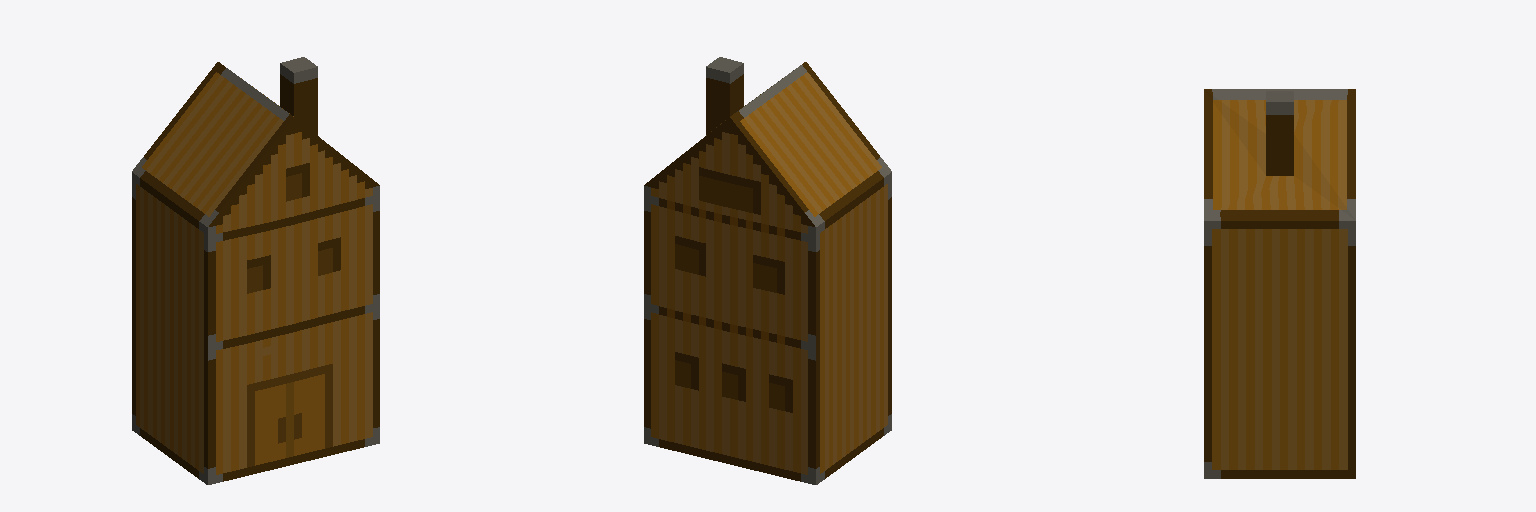
3 views of the same model, side by side, from view 1: azimuth 30°, elevation 25°; view 2: azimuth 150°, elevation 25°; view 3: azimuth 270°, elevation 25° (orthographic).
Parts seen in each view (by area): view 1: residence_Cube; view 2: residence_Cube; view 3: residence_Cube.
Part boxes in pixels (x1,y1,x2,y2): residence_Cube: (132, 57, 379, 484); residence_Cube: (644, 57, 891, 484); residence_Cube: (1204, 89, 1355, 478).
Size of the model in its own units: 2 by 4 by 1.53.
1 materials, 1 textured.